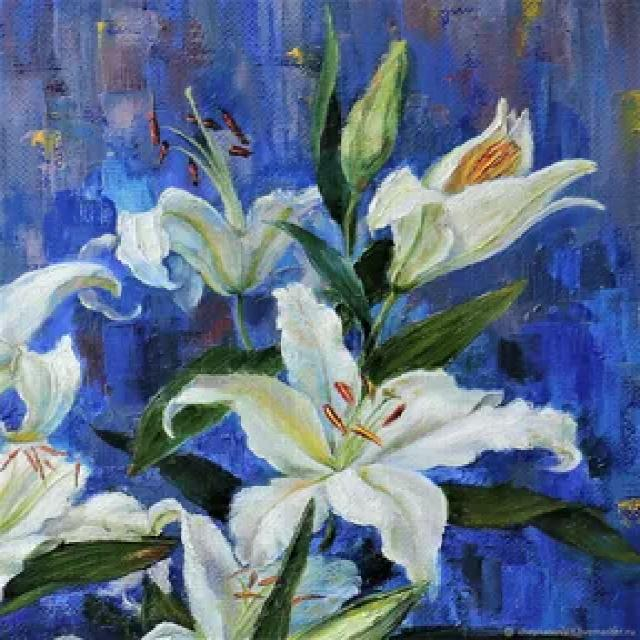lily: (157, 260, 577, 603)
